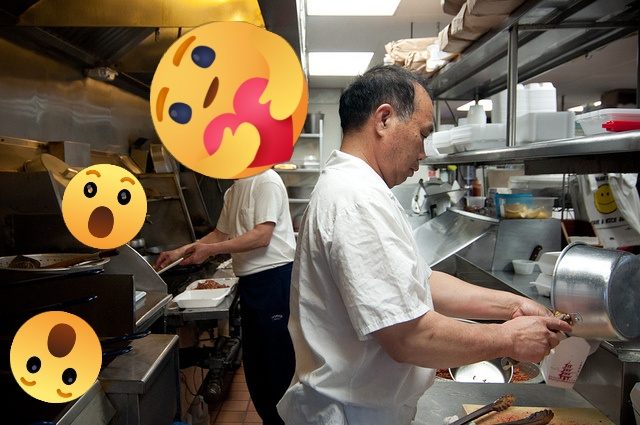care: (150, 21, 308, 179)
wow: (10, 311, 102, 403), (62, 164, 147, 249)
